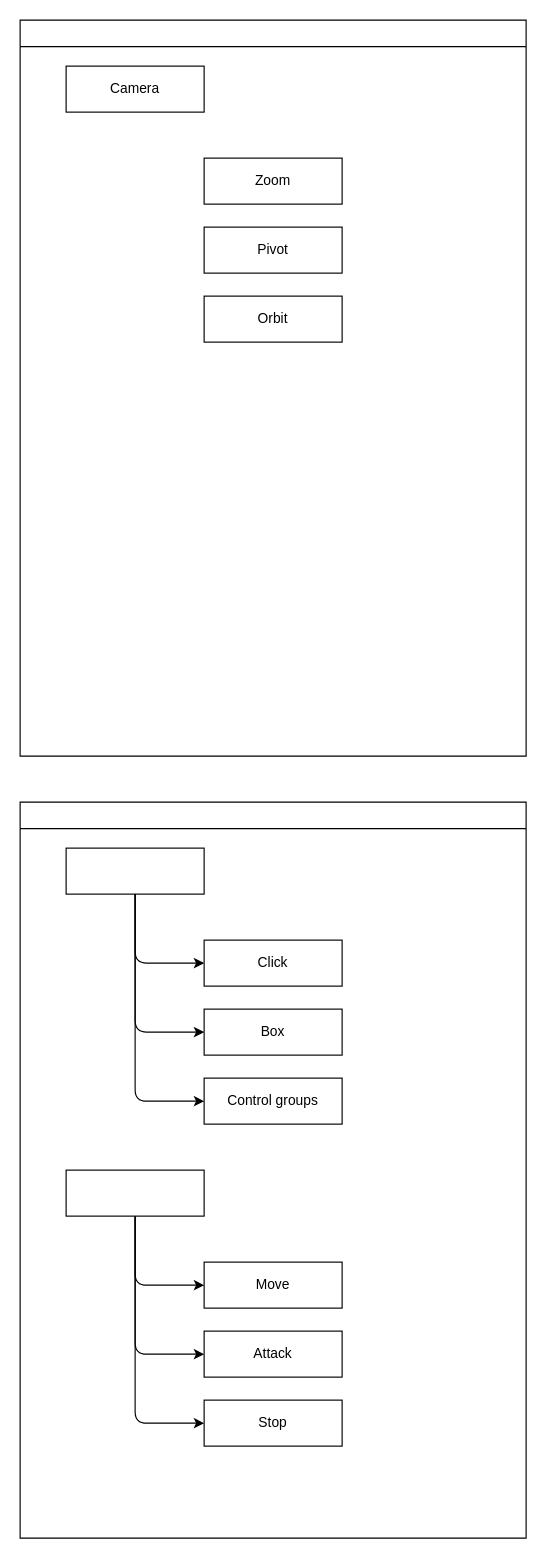
Image size: 546x1558. Some labels were removed from this diagram. The shapes that lost their labels are listed below. From the top down, each one's box as (x1, y1, x2, y2) in pixels, then its label:
(19, 19, 526, 756): Camera Control
(65, 847, 204, 894): Selection
(19, 801, 526, 1538): Unit Control
(65, 1169, 204, 1216): Commands
